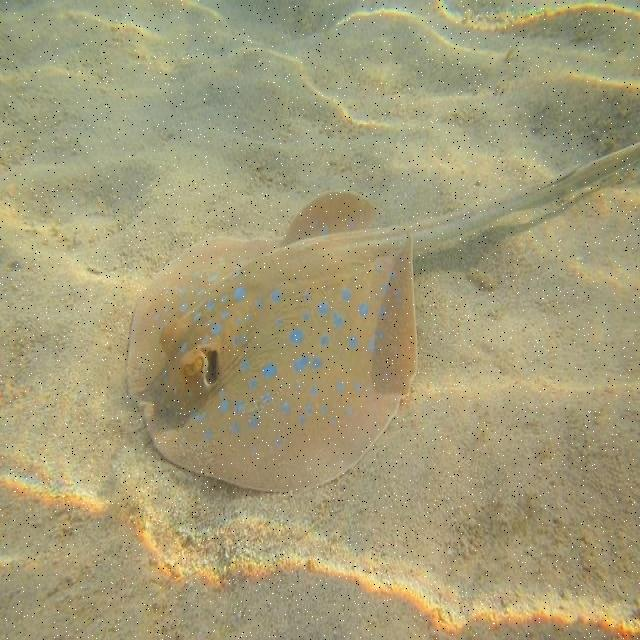fish: (122, 141, 639, 496)
